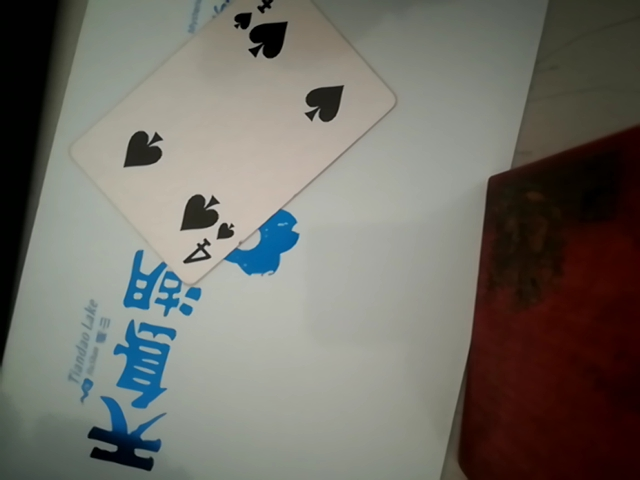ht 4: (66, 0, 390, 275)
